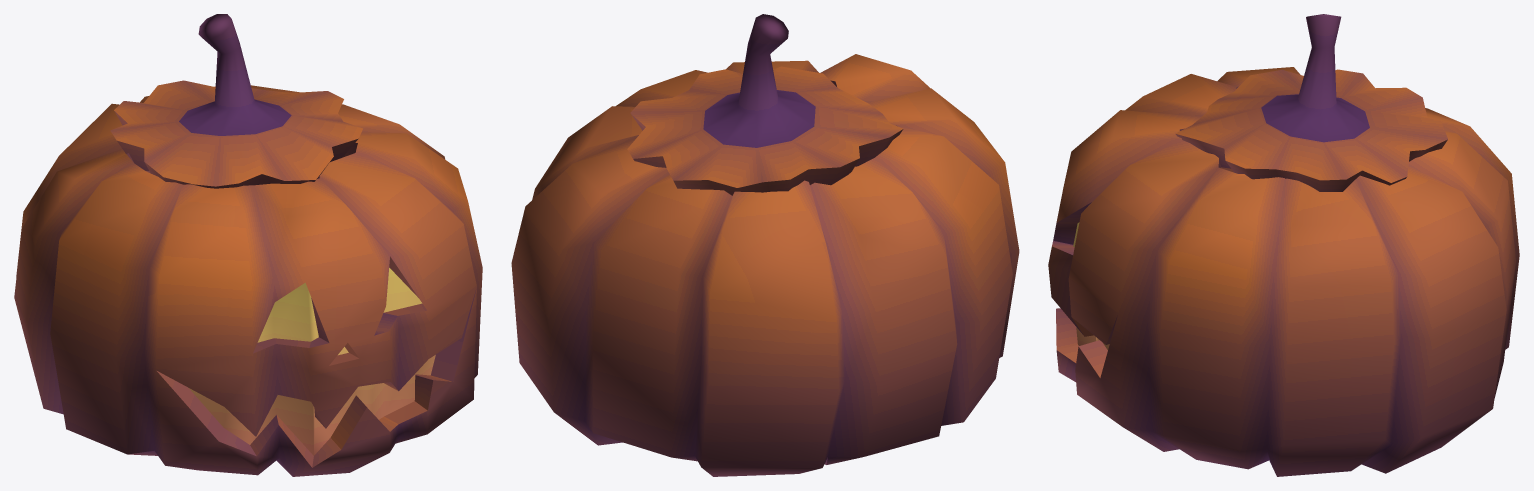
Rendered from Pumpkin_Lantern.fbx.
3 renders of one model, left to right at view 1: azimuth 30°, elevation 25°; view 2: azimuth 150°, elevation 25°; view 3: azimuth 270°, elevation 25°, orthographic. The views are drawn at different scales.
Visible parts, largest first — view 1: polySurface6; view 2: polySurface6; view 3: polySurface6.
Part boxes in pixels (x1,y1,x2,y2): polySurface6: (14, 14, 482, 476); polySurface6: (511, 14, 1019, 476); polySurface6: (1048, 14, 1519, 476).
Bounding box in the file's own units: 2.15 × 2 × 2.17.
